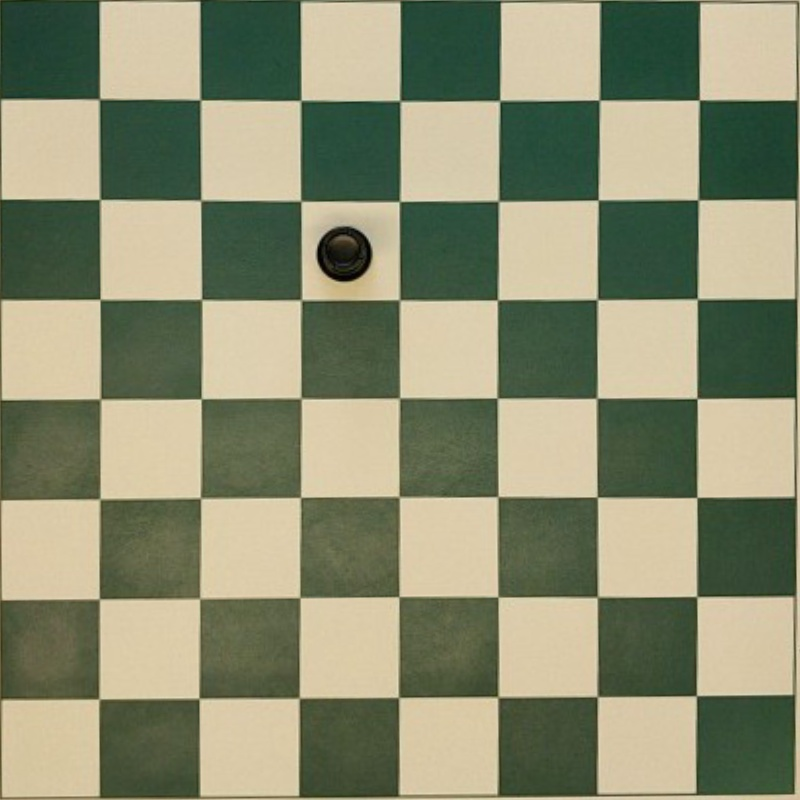black-rook: (316, 226, 372, 281)
